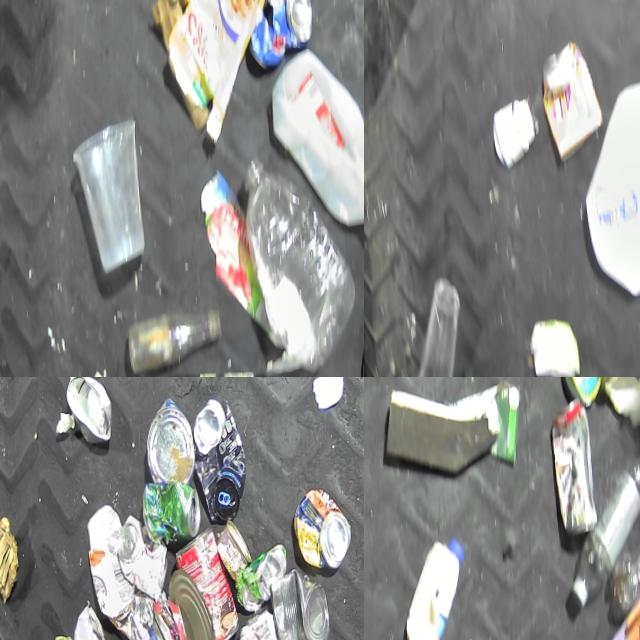can: (540, 23, 600, 166), (172, 526, 238, 640), (190, 397, 246, 521), (550, 396, 596, 536), (243, 0, 315, 84), (292, 487, 351, 569), (267, 566, 329, 640), (116, 512, 168, 600), (144, 396, 194, 483), (142, 478, 201, 544), (234, 542, 286, 612), (166, 569, 216, 640), (64, 377, 111, 442), (214, 519, 252, 580), (236, 608, 289, 640), (72, 603, 108, 640)
milk_jug: (268, 45, 364, 241), (578, 67, 640, 308)
plastic_bottle: (243, 153, 354, 374), (567, 455, 640, 605), (607, 512, 640, 608)
